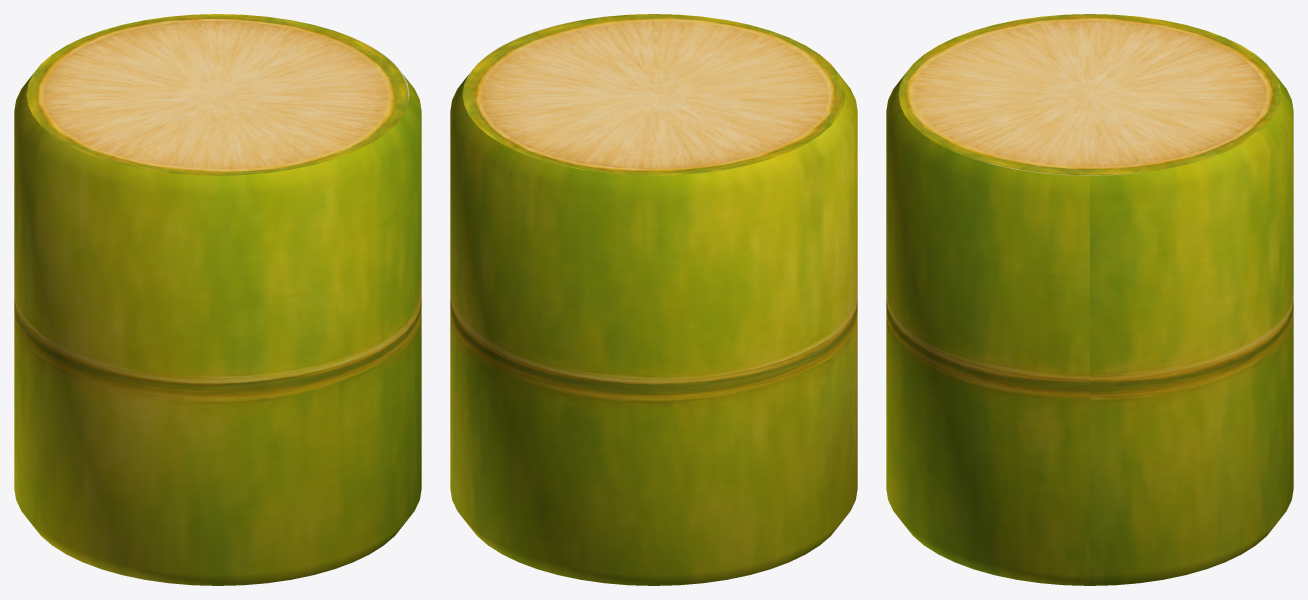
Rendered from bamboo_segment-BBJOiVtG.glb.
3 renders of one model, left to right at view 1: azimuth 30°, elevation 25°; view 2: azimuth 150°, elevation 25°; view 3: azimuth 270°, elevation 25°, orthographic.
Parts seen in each view (by area): view 1: HI_bamboo_segment; view 2: HI_bamboo_segment; view 3: HI_bamboo_segment.
Part boxes in pixels (x1,y1,x2,y2): HI_bamboo_segment: (14, 14, 421, 585); HI_bamboo_segment: (450, 14, 857, 585); HI_bamboo_segment: (886, 14, 1293, 585).
Size of the model in its own units: 0.36 by 0.4 by 0.36.
Materials: 1 (1 with a texture image).
